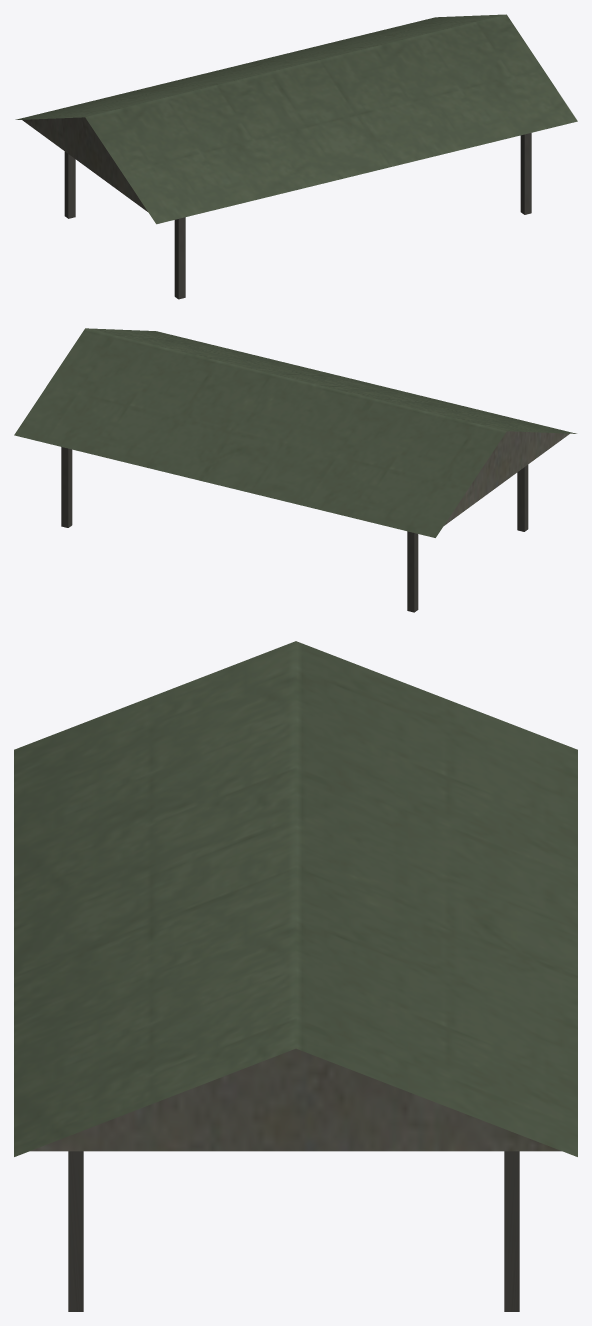
Rendered from Dhz_zszp_01.FBX.
The picture shows the model from 3 angles, top to bottom: view 1: azimuth 30°, elevation 25°; view 2: azimuth 150°, elevation 25°; view 3: azimuth 270°, elevation 25°; orthographic projection. The views are drawn at different scales.
Parts seen in each view (by area): view 1: Dhz_zszp_01; view 2: Dhz_zszp_01; view 3: Dhz_zszp_01.
Part boxes in pixels (x1,y1,x2,y2): Dhz_zszp_01: [15, 14, 577, 299]; Dhz_zszp_01: [14, 328, 576, 612]; Dhz_zszp_01: [14, 641, 577, 1311].
Size of the model in its own units: 8.55 by 2.88 by 5.
1 material, 1 textured.
